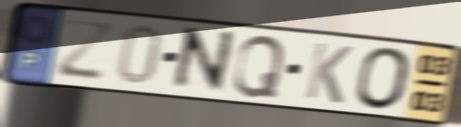0: (113, 22, 164, 87)
K: (302, 40, 355, 107)
N: (167, 25, 238, 96)
O: (354, 45, 414, 113)
Q: (230, 33, 288, 100)
Z: (53, 15, 117, 84)
